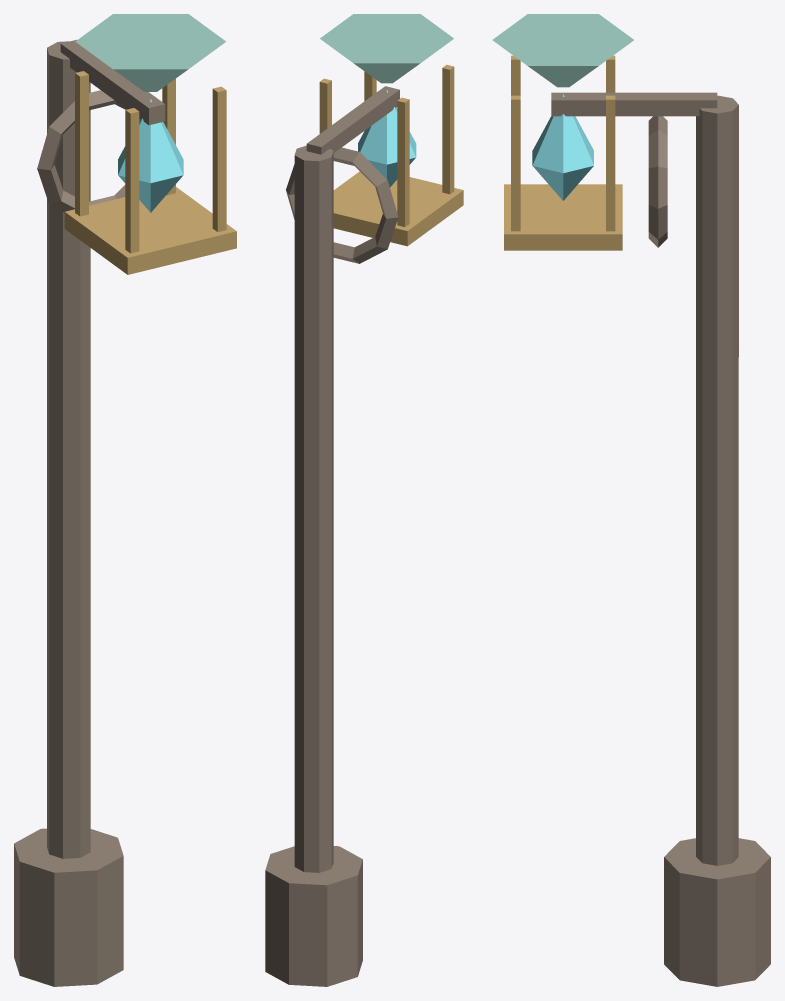
The model's file is Cite_Lampadaire.fbx.
3 renders of one model, left to right at view 1: azimuth 30°, elevation 25°; view 2: azimuth 150°, elevation 25°; view 3: azimuth 270°, elevation 25°, orthographic. The views are drawn at different scales.
Visible parts, largest first — view 1: Cite_Lampadaire_Fer, Cite_Lampadaire_Laiton, Cite_Lampadaire_Cuivre, Cite_Lampadaire_Noyau; view 2: Cite_Lampadaire_Fer, Cite_Lampadaire_Laiton, Cite_Lampadaire_Cuivre, Cite_Lampadaire_Noyau; view 3: Cite_Lampadaire_Fer, Cite_Lampadaire_Laiton, Cite_Lampadaire_Cuivre, Cite_Lampadaire_Noyau.
Boxes of the visible parts, x1,y1,x2,y2 form: Cite_Lampadaire_Fer: [14, 39, 165, 986]; Cite_Lampadaire_Laiton: [64, 71, 236, 274]; Cite_Lampadaire_Cuivre: [75, 14, 226, 91]; Cite_Lampadaire_Noyau: [118, 99, 183, 212]; Cite_Lampadaire_Fer: [265, 86, 399, 986]; Cite_Lampadaire_Laiton: [319, 64, 463, 246]; Cite_Lampadaire_Cuivre: [320, 14, 453, 83]; Cite_Lampadaire_Noyau: [358, 90, 416, 187]; Cite_Lampadaire_Fer: [551, 92, 770, 986]; Cite_Lampadaire_Laiton: [504, 55, 622, 250]; Cite_Lampadaire_Cuivre: [492, 14, 633, 87]; Cite_Lampadaire_Noyau: [532, 94, 593, 200].
Size of the model in its own units: 1.16 by 8.6 by 2.35.
